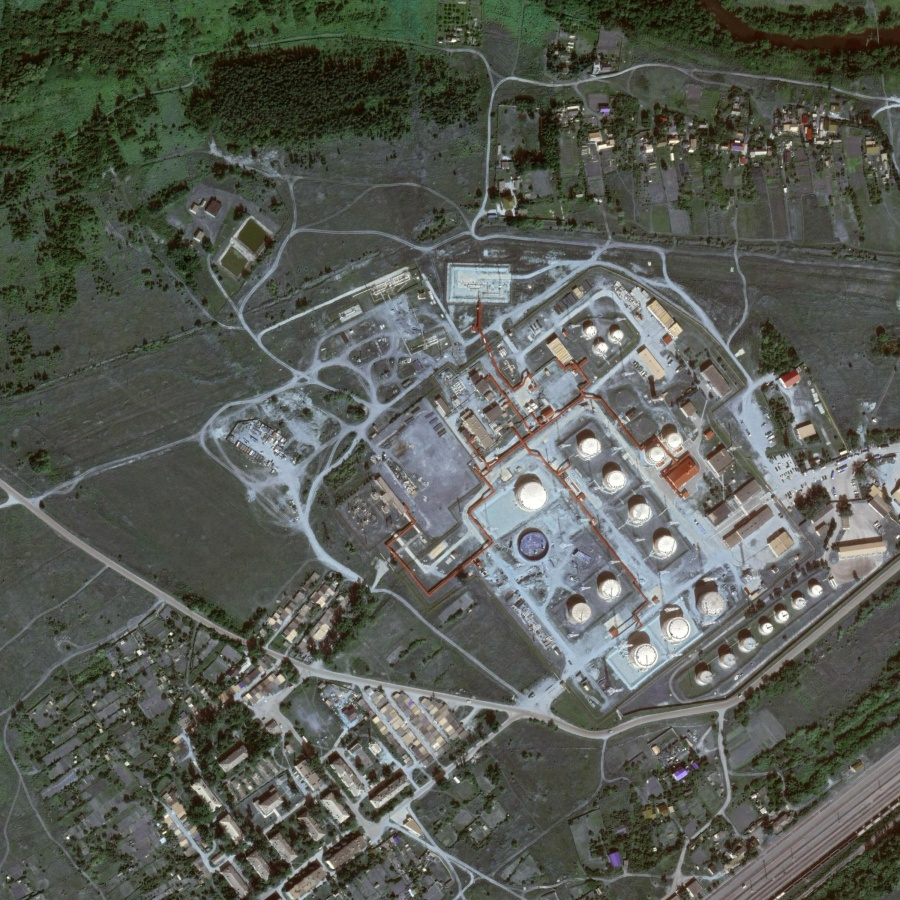PowerPlant: (516, 396, 829, 687)
